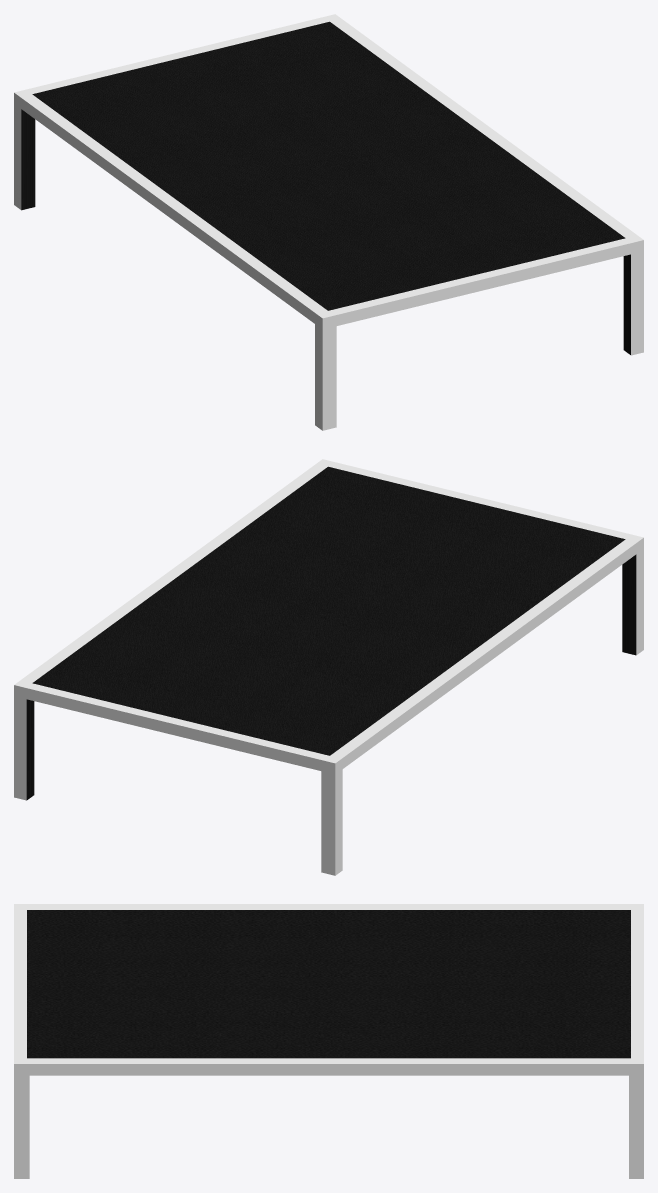
The model's file is Table_02.FBX.
3 renders of one model, top to bottom at view 1: azimuth 30°, elevation 25°; view 2: azimuth 150°, elevation 25°; view 3: azimuth 270°, elevation 25°, orthographic. The views are drawn at different scales.
Visible parts, largest first — view 1: Table_02; view 2: Table_02; view 3: Table_02.
Boxes of the visible parts, x1=… form: Table_02: x1=14, y1=14, x2=643, y2=430; Table_02: x1=14, y1=459, x2=643, y2=875; Table_02: x1=14, y1=904, x2=643, y2=1178.
Size of the model in its own units: 118 by 39.56 by 197.
